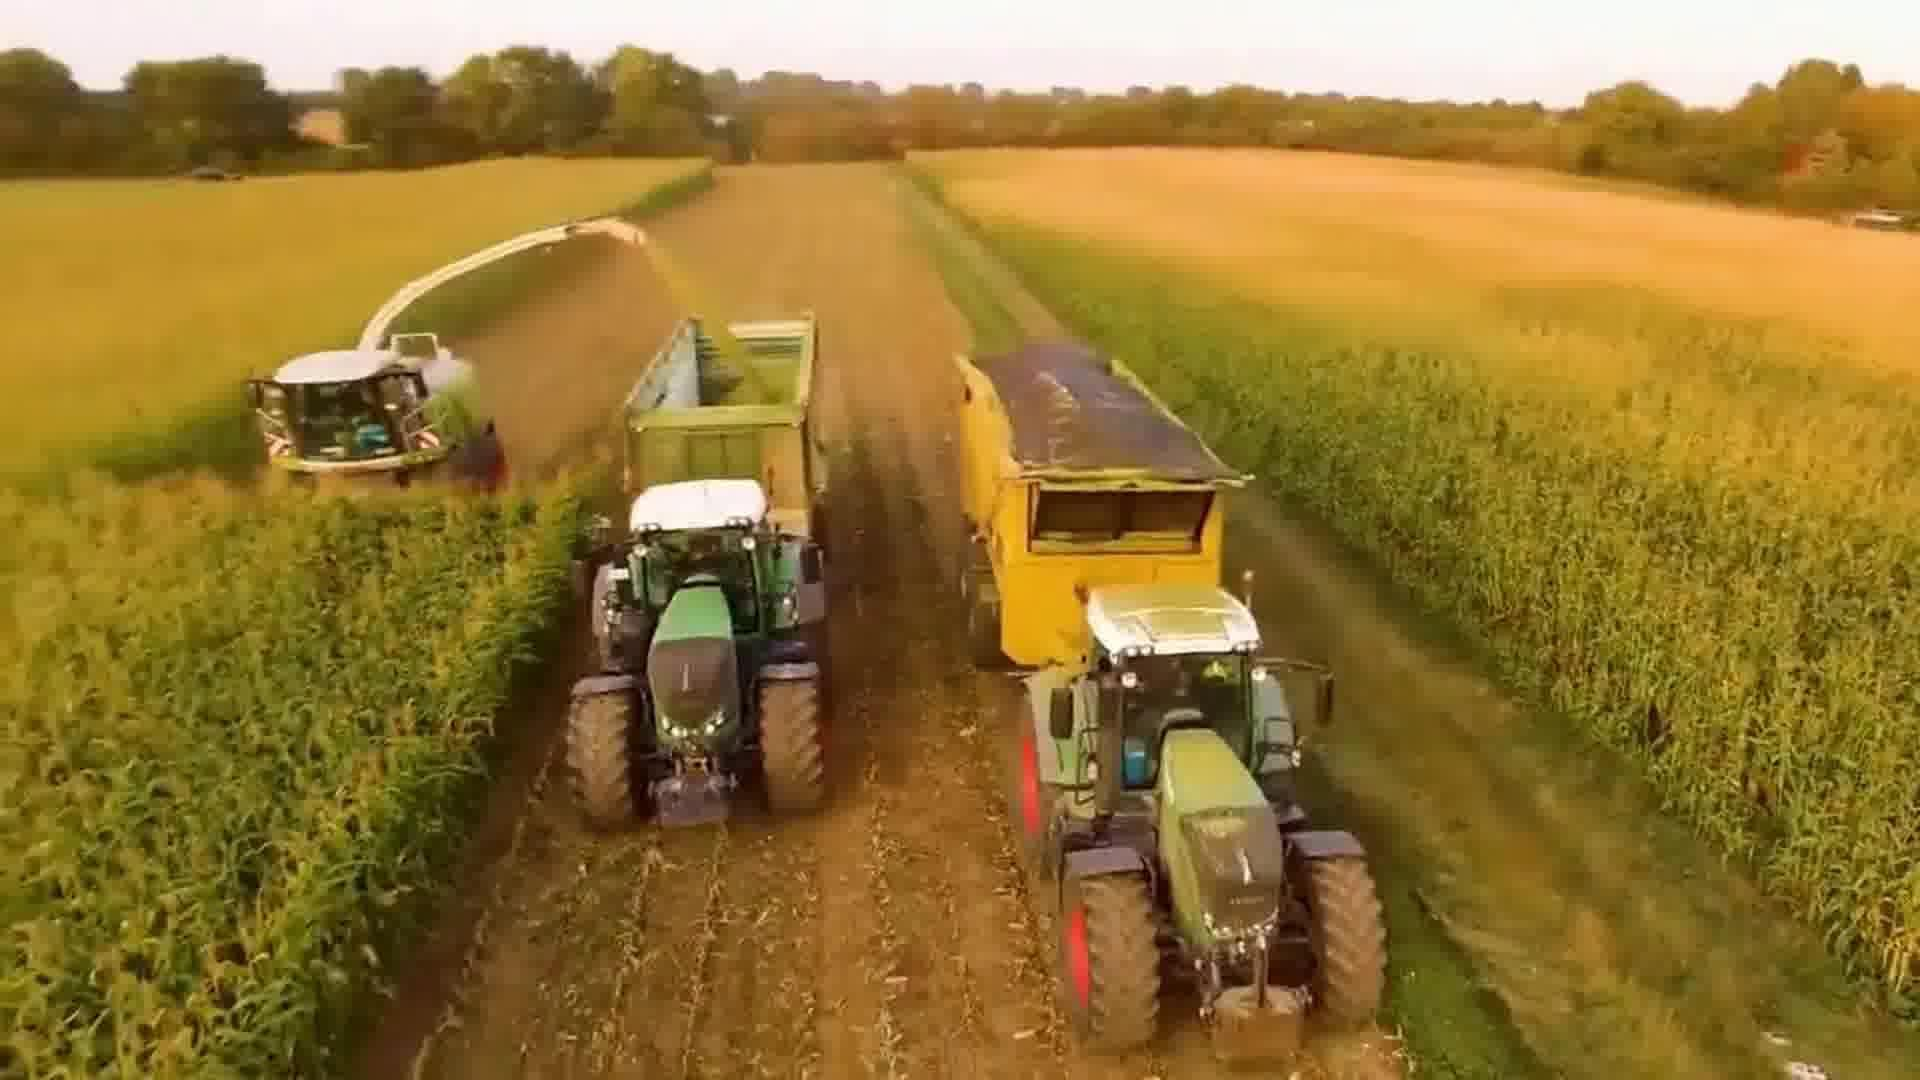combine harvester: (235, 204, 654, 535)
tractor: (1001, 567, 1404, 1072), (568, 465, 847, 841)
trailer: (943, 338, 1240, 655), (620, 294, 836, 504)
